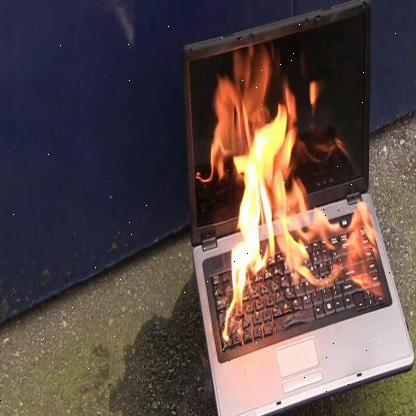fire: (183, 35, 394, 333)
